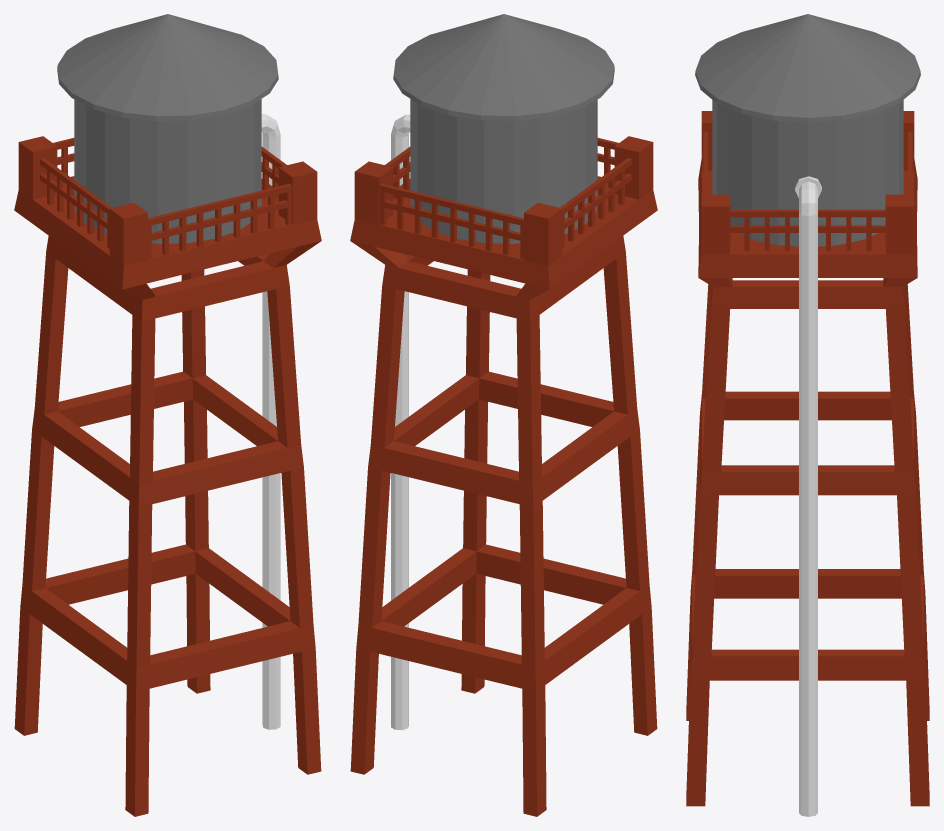
The model's file is prop_WaterTower.glb.
3 views of the same model, side by side, from view 1: azimuth 30°, elevation 25°; view 2: azimuth 150°, elevation 25°; view 3: azimuth 270°, elevation 25° (orthographic).
Visible parts, largest first — view 1: WaterTower; view 2: WaterTower; view 3: WaterTower.
Boxes of the visible parts, x1=… form: WaterTower: x1=14, y1=14, x2=321, y2=816; WaterTower: x1=350, y1=14, x2=657, y2=816; WaterTower: x1=686, y1=14, x2=929, y2=816.
Size of the model in its own units: 2.53 by 8.43 by 2.49.
